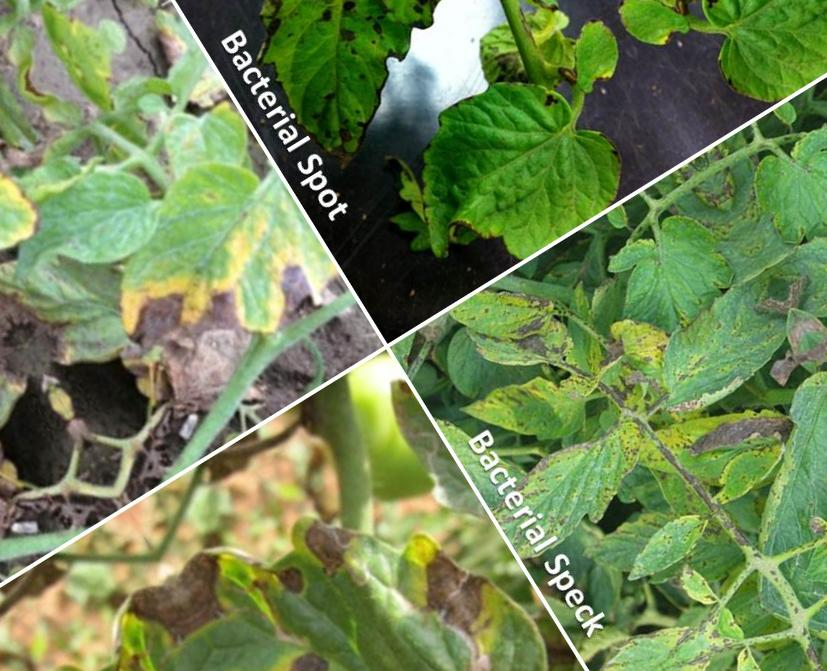Tomato Early blight leaf: (0, 6, 346, 460)
Tomato leaf bacterial spot: (333, 24, 632, 312), (190, 0, 538, 182), (659, 369, 827, 616), (477, 380, 693, 570), (609, 255, 818, 444), (572, 547, 745, 671), (609, 483, 746, 605), (702, 421, 807, 513)
